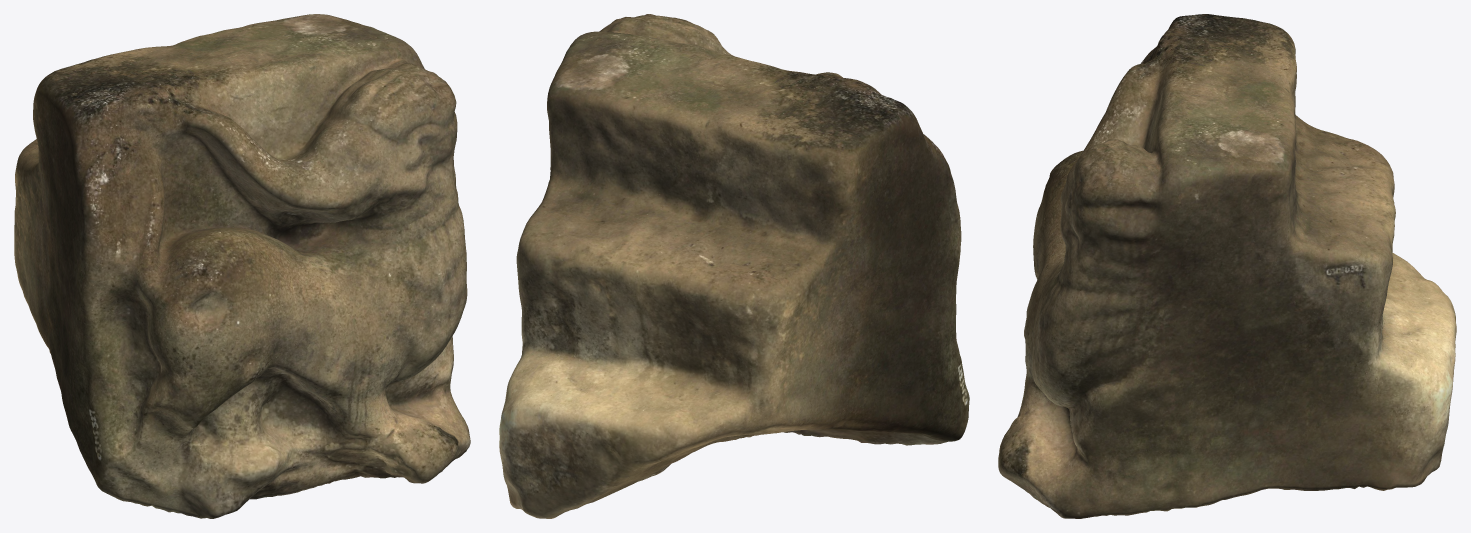
The model's file is 32_MysonSanctuaryD2_Sutuvoi_final.glb.
3 views of the same model, side by side, from view 1: azimuth 30°, elevation 25°; view 2: azimuth 150°, elevation 25°; view 3: azimuth 270°, elevation 25° (orthographic). The views are drawn at different scales.
Size of the model in its own units: 0.409 by 0.4142 by 0.4681.
1 material, 1 textured.
